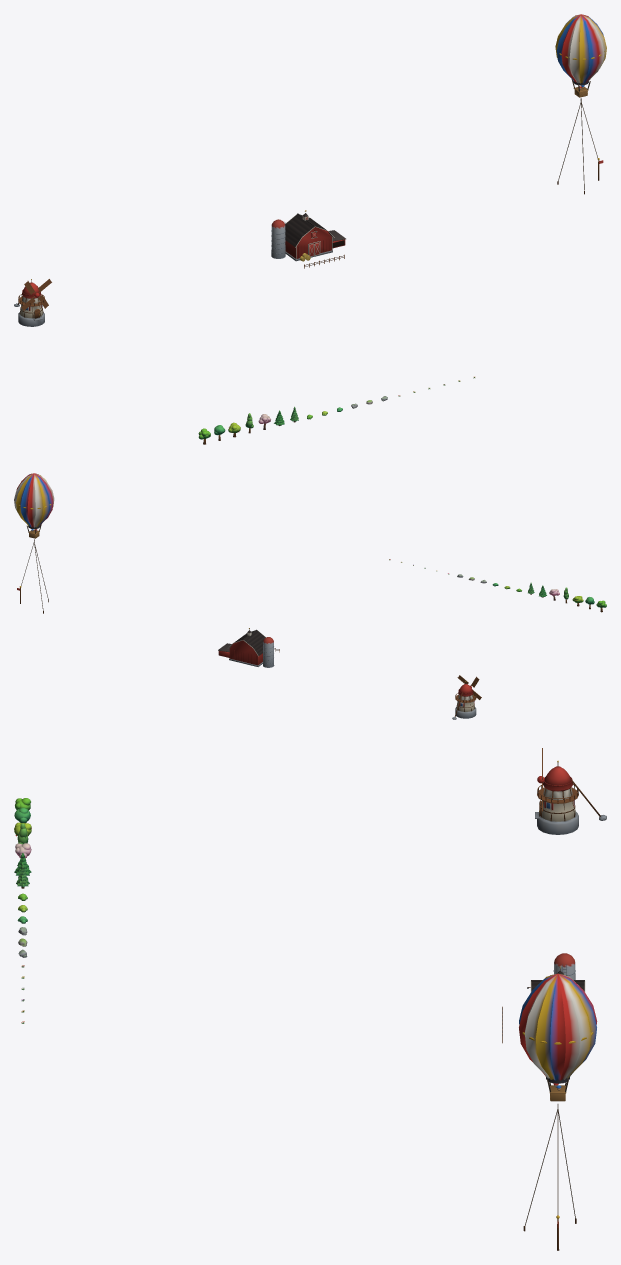
Rendered from world-meadow.glb.
3 renders of one model, top to bottom at view 1: azimuth 30°, elevation 25°; view 2: azimuth 150°, elevation 25°; view 3: azimuth 270°, elevation 25°, orthographic. The views are drawn at different scales.
Visible parts, largest first — view 1: balloon.envelope.lit, barn.body.lit, barn.silo.lit, windmill.body.lit; view 2: balloon.envelope.lit, barn.body.lit, windmill.body.lit, barn.silo.lit; view 3: balloon.envelope.lit, windmill.body.lit.
Boxes of the visible parts, x1,y1,x2,y2 form: balloon.envelope.lit: (555, 14, 606, 97); barn.body.lit: (285, 210, 334, 261); barn.silo.lit: (271, 219, 345, 268); windmill.body.lit: (14, 279, 44, 326); balloon.envelope.lit: (14, 473, 54, 538); barn.body.lit: (228, 628, 265, 666); windmill.body.lit: (452, 681, 476, 719); barn.silo.lit: (218, 637, 279, 667); balloon.envelope.lit: (519, 973, 597, 1101); windmill.body.lit: (535, 760, 606, 834).
Size of the model in its own units: 235 by 66.1 by 133.
